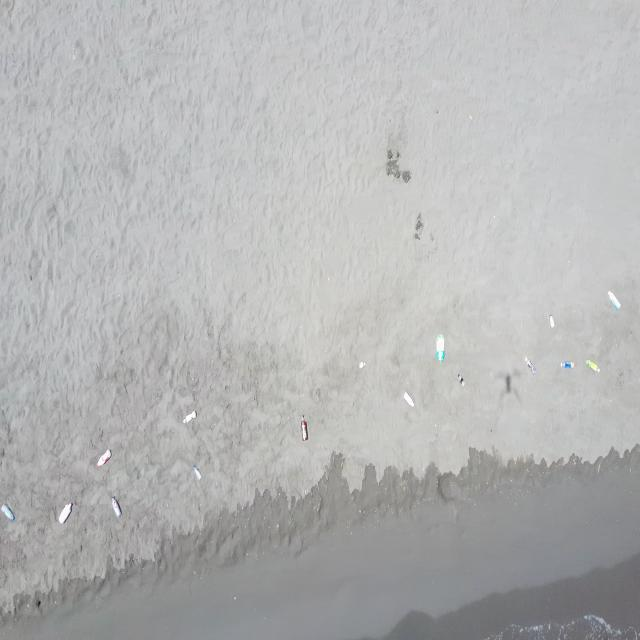plastic-bottle: (57, 501, 74, 525), (434, 334, 446, 364), (95, 448, 112, 469), (0, 501, 16, 522), (607, 288, 621, 310), (300, 414, 310, 442), (587, 356, 602, 374), (111, 495, 122, 519), (403, 390, 415, 408), (525, 357, 536, 375), (182, 411, 196, 425), (193, 464, 203, 482), (561, 360, 575, 370), (457, 373, 466, 388), (549, 314, 555, 329), (359, 360, 366, 370)
